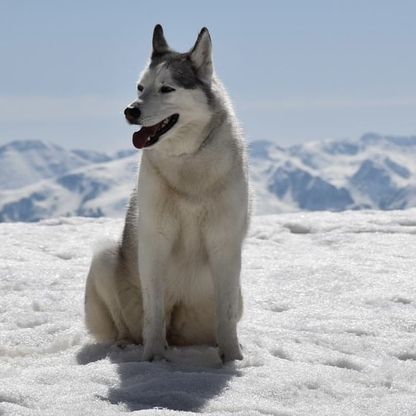husky: (80, 20, 258, 371)
